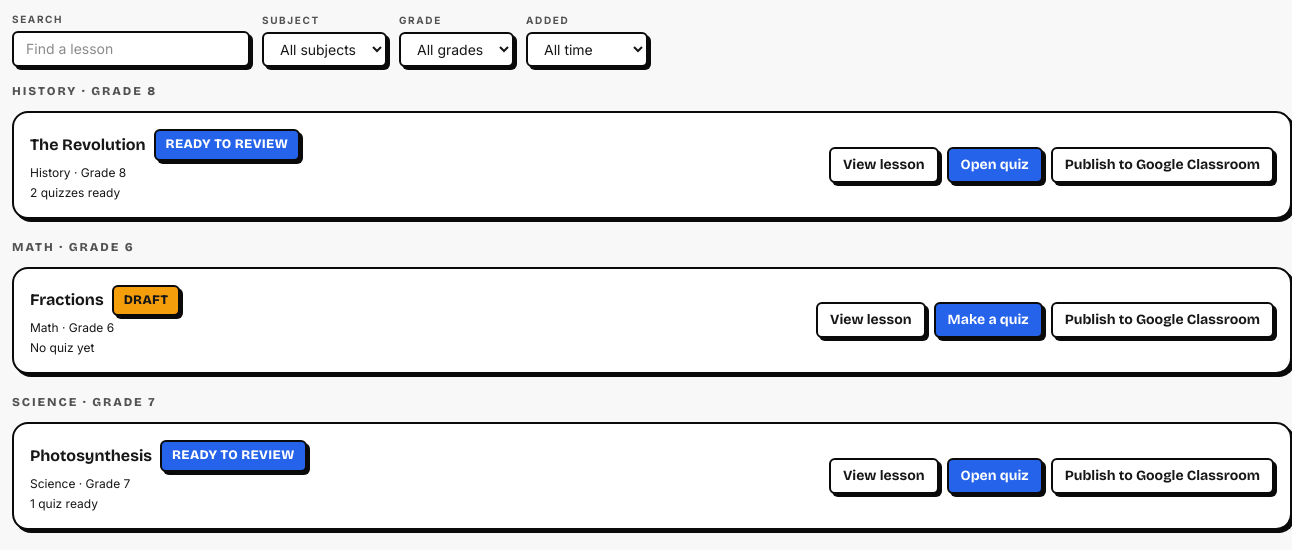
Scenario: LessonLibrary › after clicking Publish and the fetch resolves {ok:true} the row shows "✓ In Google Classroom"
Click the first "Publish to Classroom" button
Click the button "Publish to Google Classroom" in the row of "The Revolution": x=1162, y=165 [1051, 147, 1274, 183]
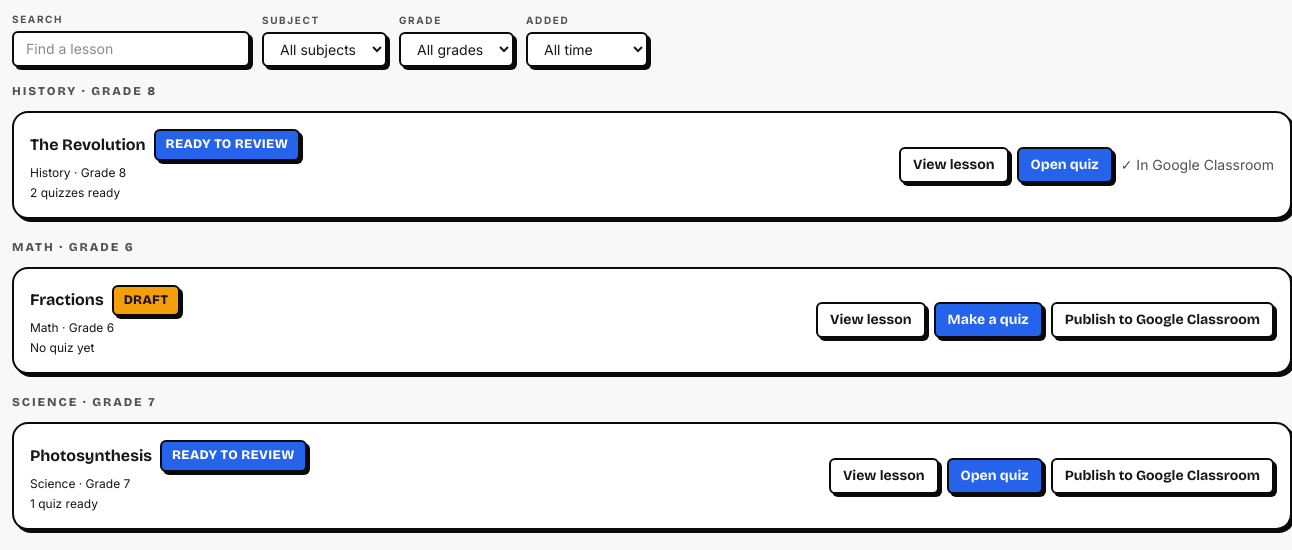
Now the text "✓ In Google Classroom" is shown, box [1121, 155, 1274, 175]
